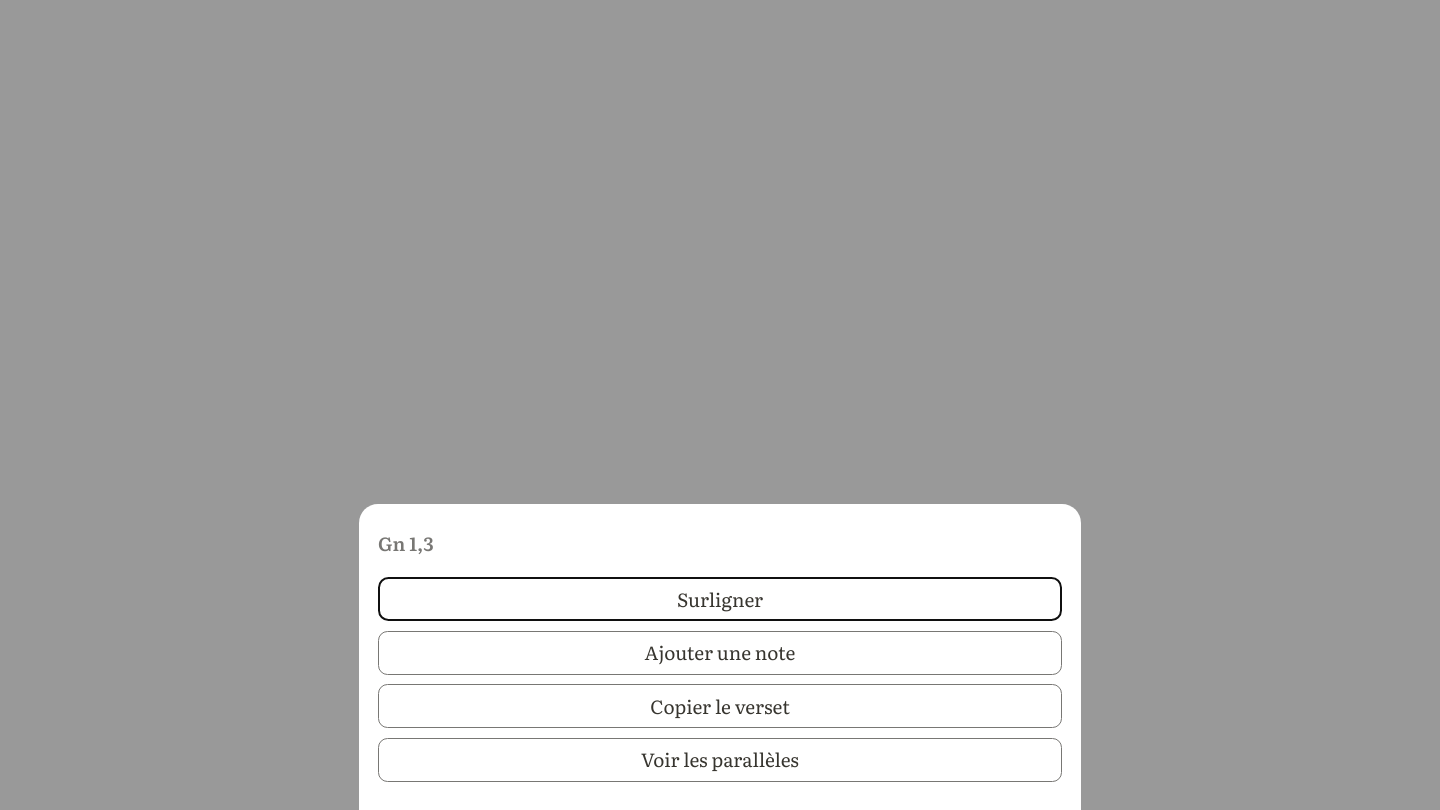
Test: VerseMenu › copier le verset › copie le verset avec sa référence, et le confirme
The image size is (1440, 810).
Click the button "Copier le verset": (720, 706) [378, 684, 1062, 728]
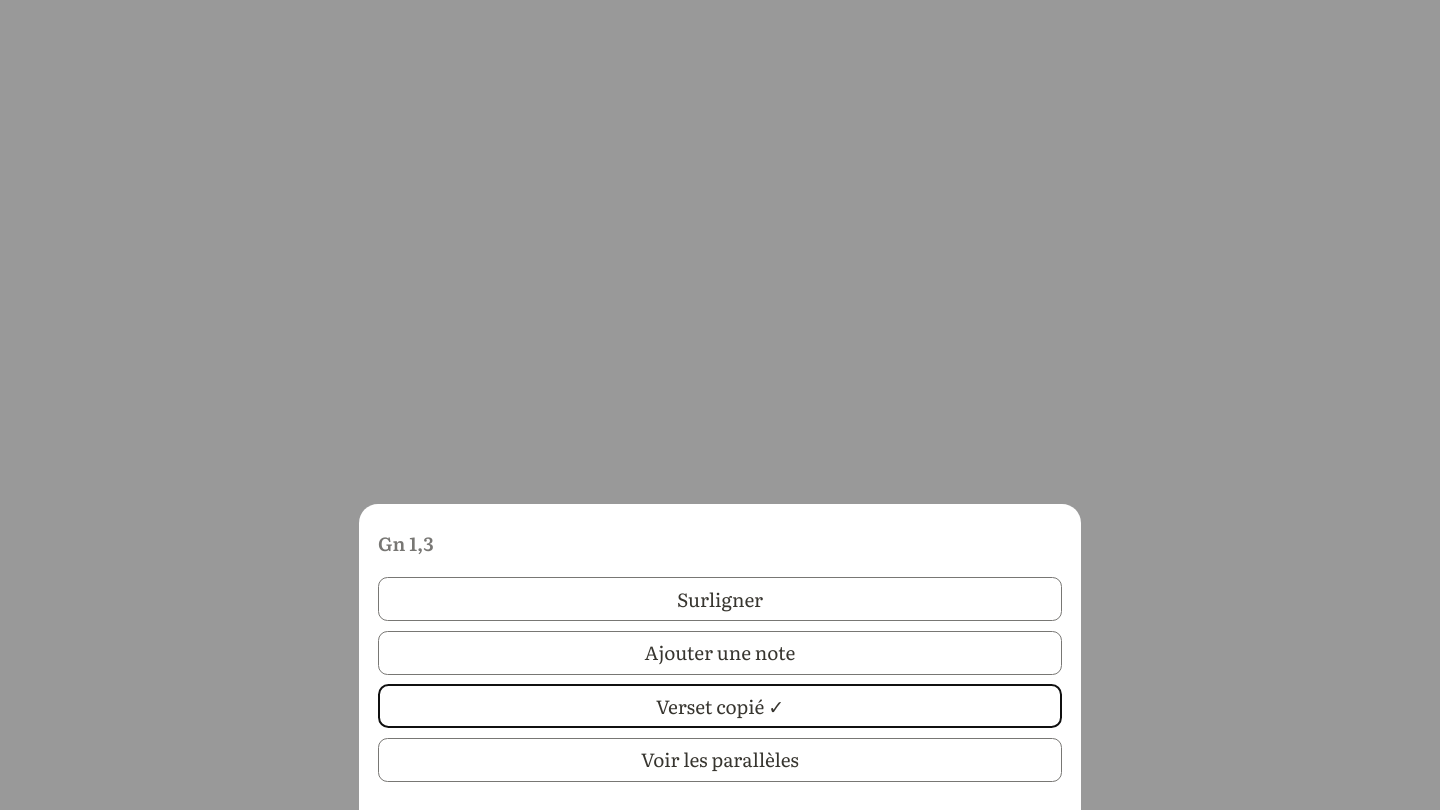
Now the button "Verset copié ✓" is shown, box [378, 684, 1062, 728]
